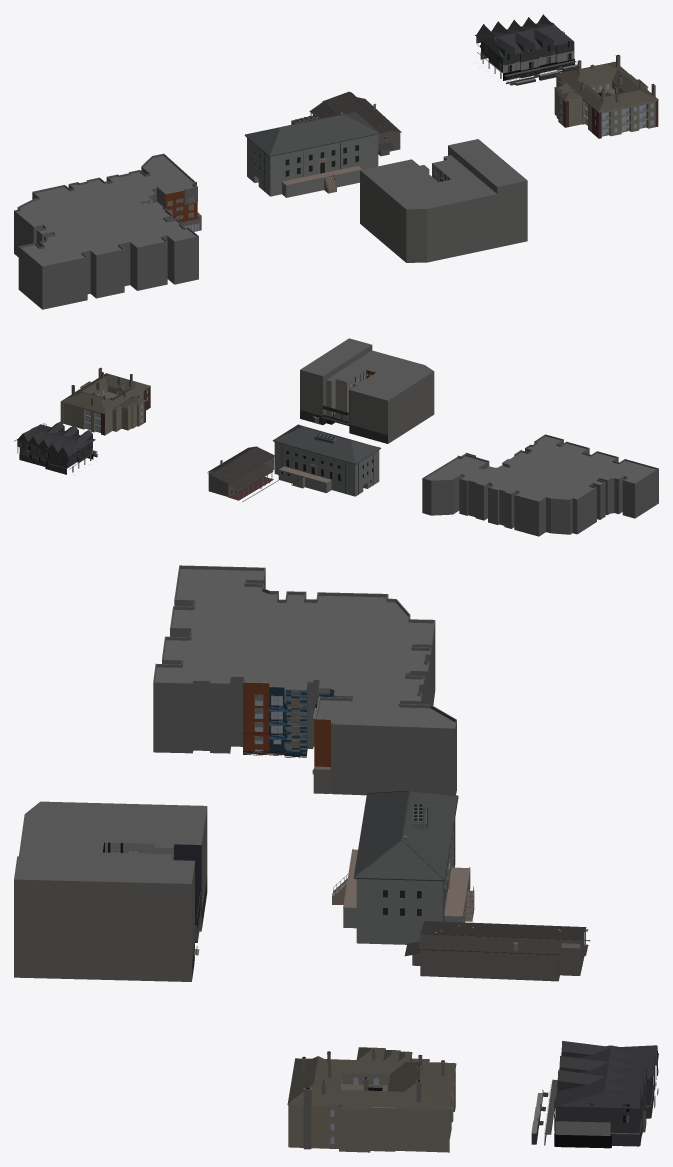
3 views of the same model, one above another, from view 1: azimuth 30°, elevation 25°; view 2: azimuth 150°, elevation 25°; view 3: azimuth 270°, elevation 25° (orthographic). The views are drawn at different scales.
Parts seen in each view (by area): view 1: opaque, glass; view 2: opaque, glass; view 3: opaque, glass.
Part boxes in pixels (box(x1,y1,x2,y2)): opaque: box(14, 14, 658, 309); glass: box(151, 41, 653, 231); opaque: box(14, 338, 658, 536); glass: box(20, 375, 372, 493); opaque: box(14, 565, 658, 1152); glass: box(110, 696, 629, 1143).
Bounding box in the file's own units: 263 × 23.24 × 138.
Materials: 2 (2 with a texture image).
